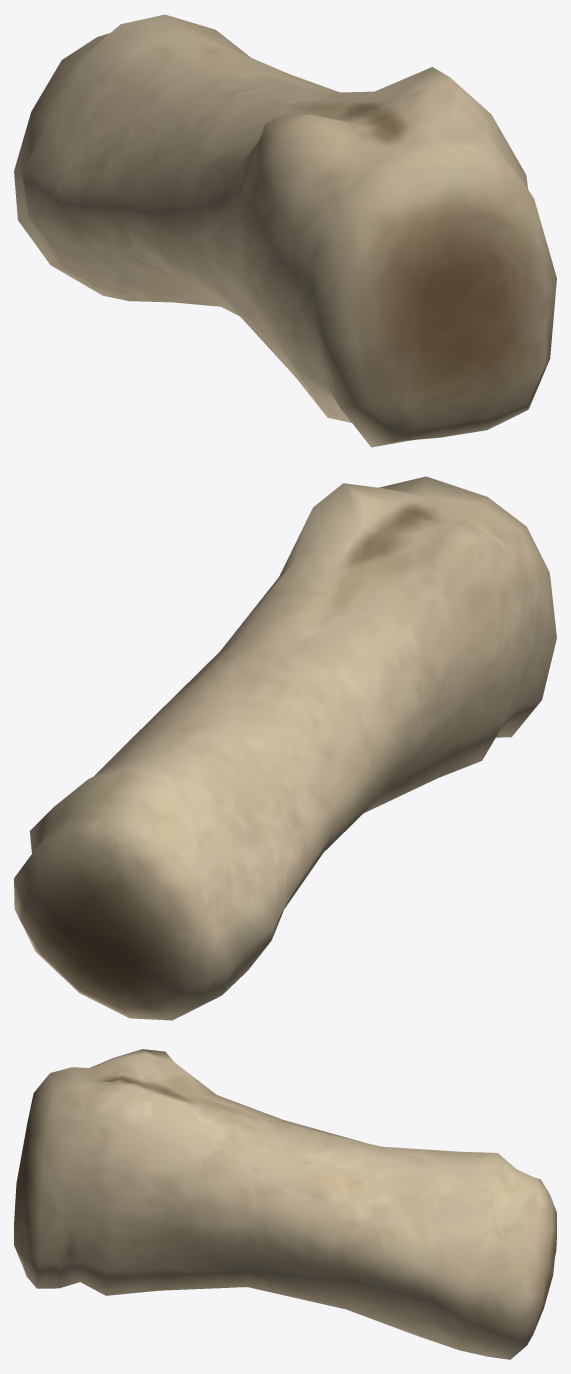
Rendered from Caudal_Vertebrae8.glb.
3 renders of one model, top to bottom at view 1: azimuth 30°, elevation 25°; view 2: azimuth 150°, elevation 25°; view 3: azimuth 270°, elevation 25°, orthographic. The views are drawn at different scales.
Visible parts, largest first — view 1: Caudal_Vertebrae_27:Group59539; view 2: Caudal_Vertebrae_27:Group59539; view 3: Caudal_Vertebrae_27:Group59539.
Part boxes in pixels (<box>): Caudal_Vertebrae_27:Group59539: <box>14,14,556,447</box>; Caudal_Vertebrae_27:Group59539: <box>14,476,556,1020</box>; Caudal_Vertebrae_27:Group59539: <box>14,1049,556,1359</box>.
Size of the model in its own units: 8.78 by 11.29 by 20.
1 material, 1 textured.
